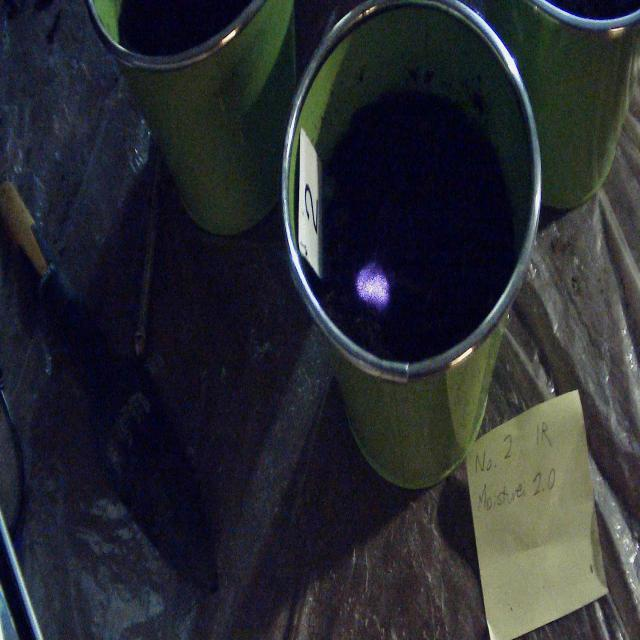soil-moisture-2.0: (356, 262, 392, 308)
